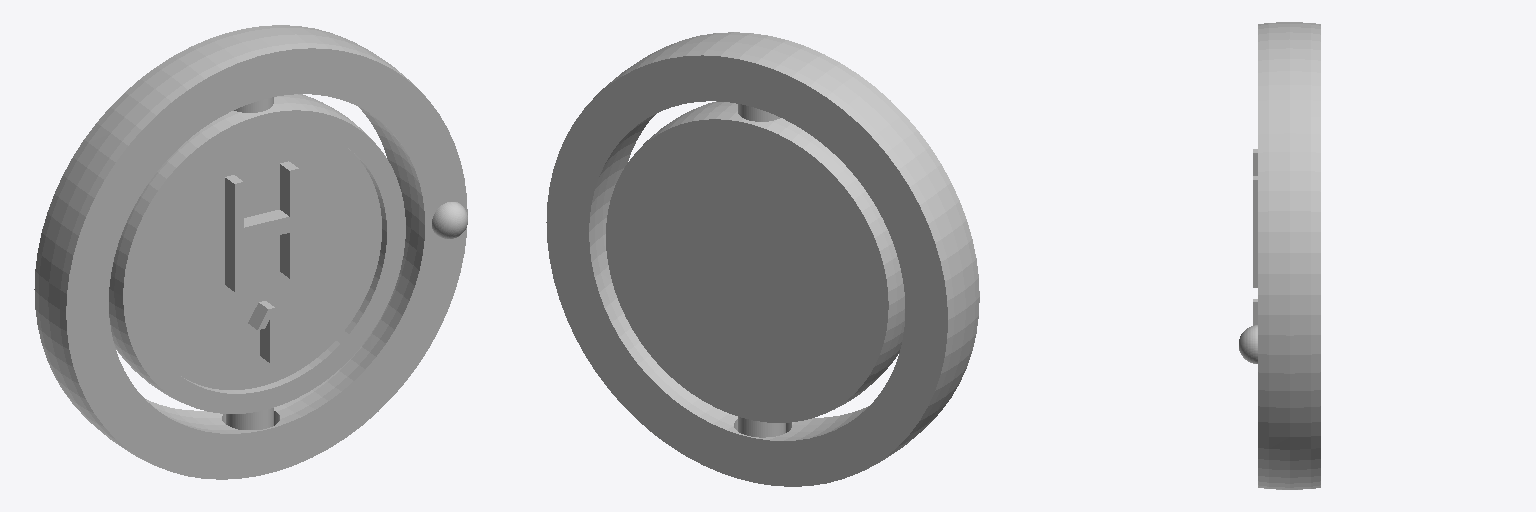
File: 001_-_H_-_Hydrogen-X-RAY.obj
The picture shows the model from 3 angles: view 1: azimuth 30°, elevation 25°; view 2: azimuth 150°, elevation 25°; view 3: azimuth 270°, elevation 25°; orthographic projection.
Visible parts, largest first — view 1: Object.2, Object.1; view 2: Object.2, Object.1; view 3: Object.2, Object.1.
Boxes of the visible parts, <box> form: Object.2: <box>34,25,467,479</box>; Object.1: <box>109,94,405,429</box>; Object.2: <box>546,32,979,486</box>; Object.1: <box>606,101,904,437</box>; Object.2: <box>1239,22,1320,489</box>; Object.1: <box>1253,149,1257,325</box>.
Bounding box in the file's own units: 48 × 47.95 × 8.5.